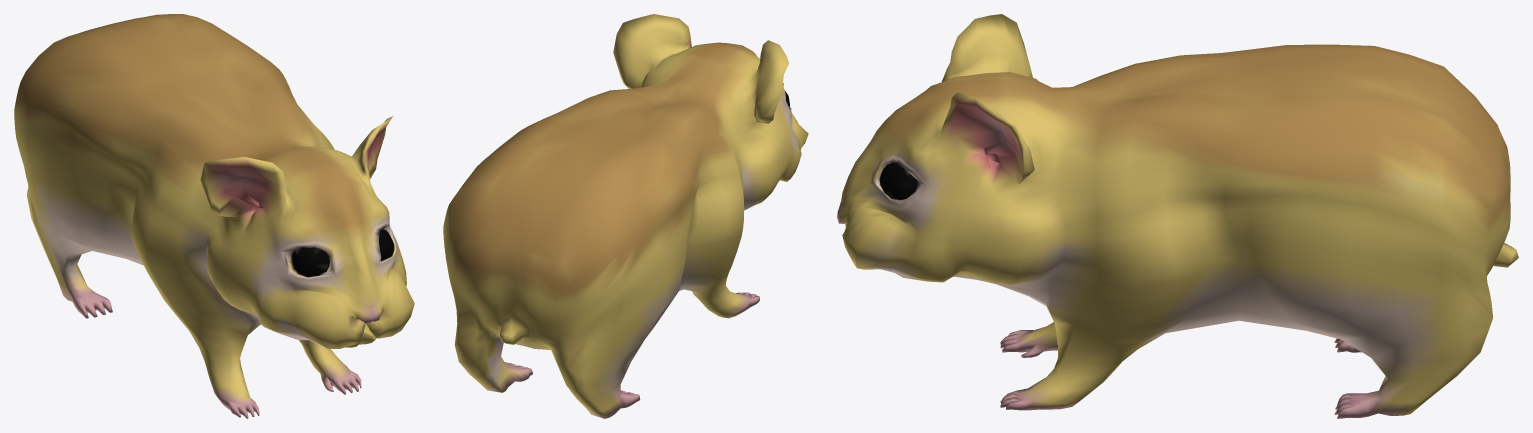
Rendered from Gerbil.fbx.
3 renders of one model, left to right at view 1: azimuth 30°, elevation 25°; view 2: azimuth 150°, elevation 25°; view 3: azimuth 270°, elevation 25°, orthographic. The views are drawn at different scales.
Visible parts, largest first — view 1: Cube.004_Cube.007; view 2: Cube.004_Cube.007; view 3: Cube.004_Cube.007.
Boxes of the visible parts, x1,y1,x2,y2 form: Cube.004_Cube.007: (14, 14, 414, 418); Cube.004_Cube.007: (443, 14, 808, 418); Cube.004_Cube.007: (837, 14, 1518, 418).
Size of the model in its own units: 414 by 519 by 998.
